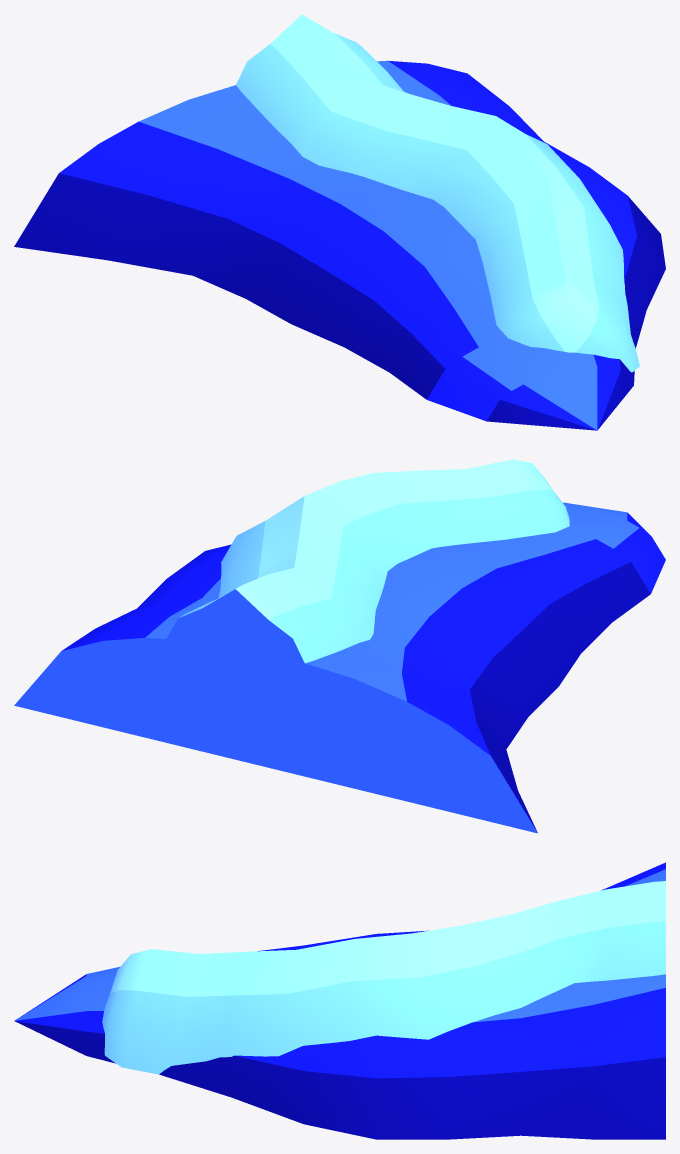
File: shot_lightning_267.glb
The picture shows the model from 3 angles, top to bottom: view 1: azimuth 30°, elevation 25°; view 2: azimuth 150°, elevation 25°; view 3: azimuth 270°, elevation 25°; orthographic projection. The views are drawn at different scales.
Visible parts, largest first — view 1: shot_lightning_267_0, shot_lightning_267_1; view 2: shot_lightning_267_0, shot_lightning_267_1; view 3: shot_lightning_267_0, shot_lightning_267_1.
Boxes of the visible parts, x1,y1,x2,y2 form: shot_lightning_267_0: (14, 60, 665, 430); shot_lightning_267_1: (236, 14, 639, 372); shot_lightning_267_0: (14, 502, 665, 833); shot_lightning_267_1: (162, 459, 569, 671); shot_lightning_267_0: (14, 862, 665, 1139); shot_lightning_267_1: (102, 881, 665, 1074).
Size of the model in its own units: 7.75 by 2.41 by 9.
